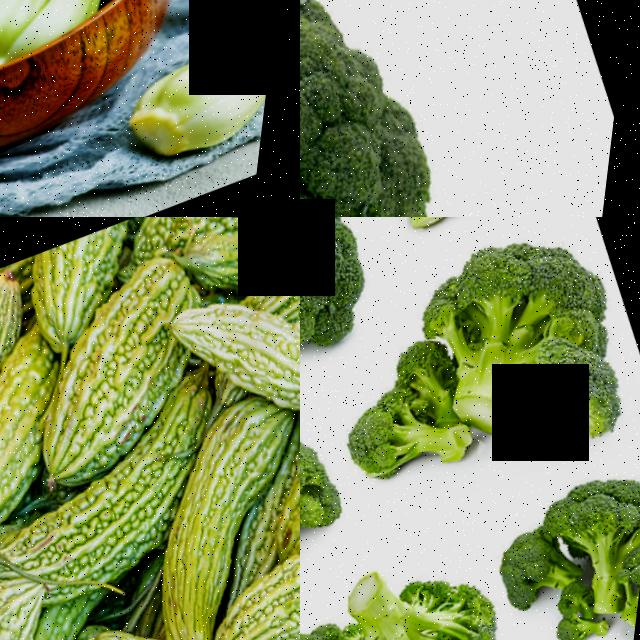bitter gourd: (0, 232, 225, 450), (135, 391, 300, 637), (1, 412, 218, 595), (196, 248, 300, 431), (211, 465, 300, 640), (0, 299, 30, 372)
bok choy: (73, 0, 287, 190)
broccoli: (300, 0, 619, 217), (407, 217, 627, 381), (316, 516, 539, 640), (314, 351, 478, 512), (300, 217, 395, 421), (300, 373, 387, 590), (503, 329, 640, 463), (545, 443, 640, 559), (498, 511, 581, 602), (544, 580, 640, 640), (321, 217, 471, 252), (300, 606, 362, 640), (621, 518, 640, 611)
